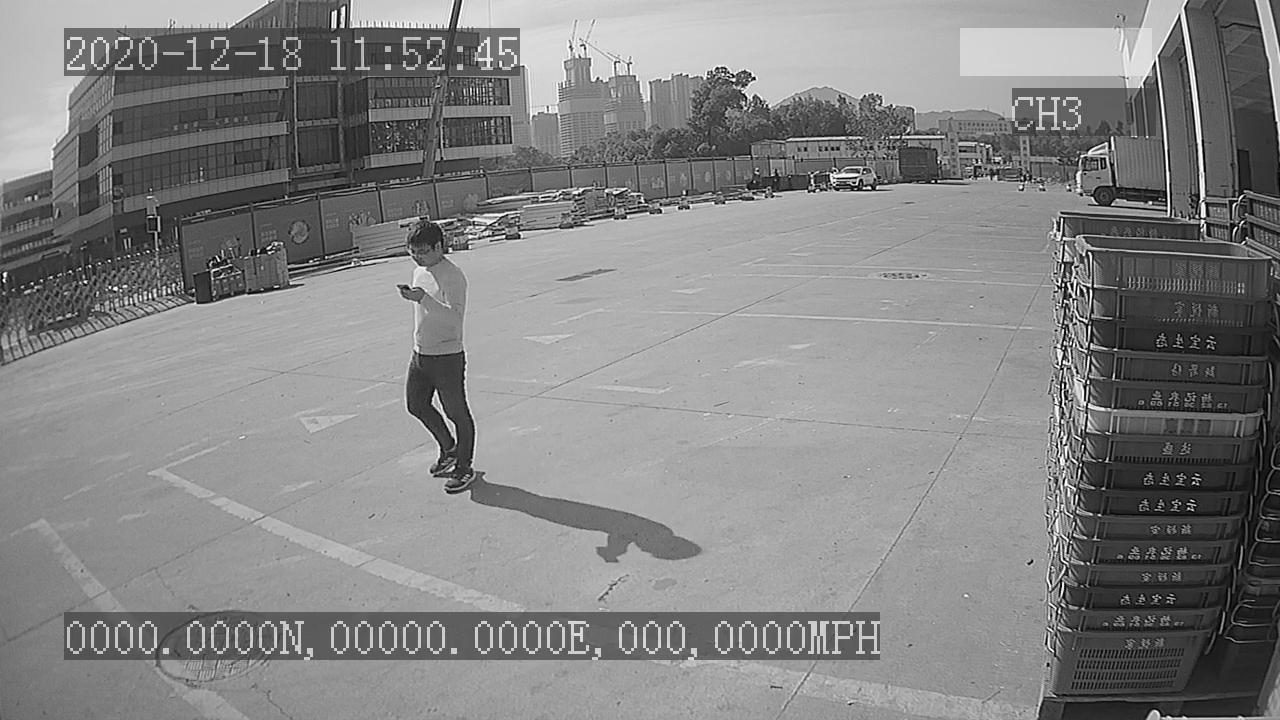person: (384, 211, 488, 502)
